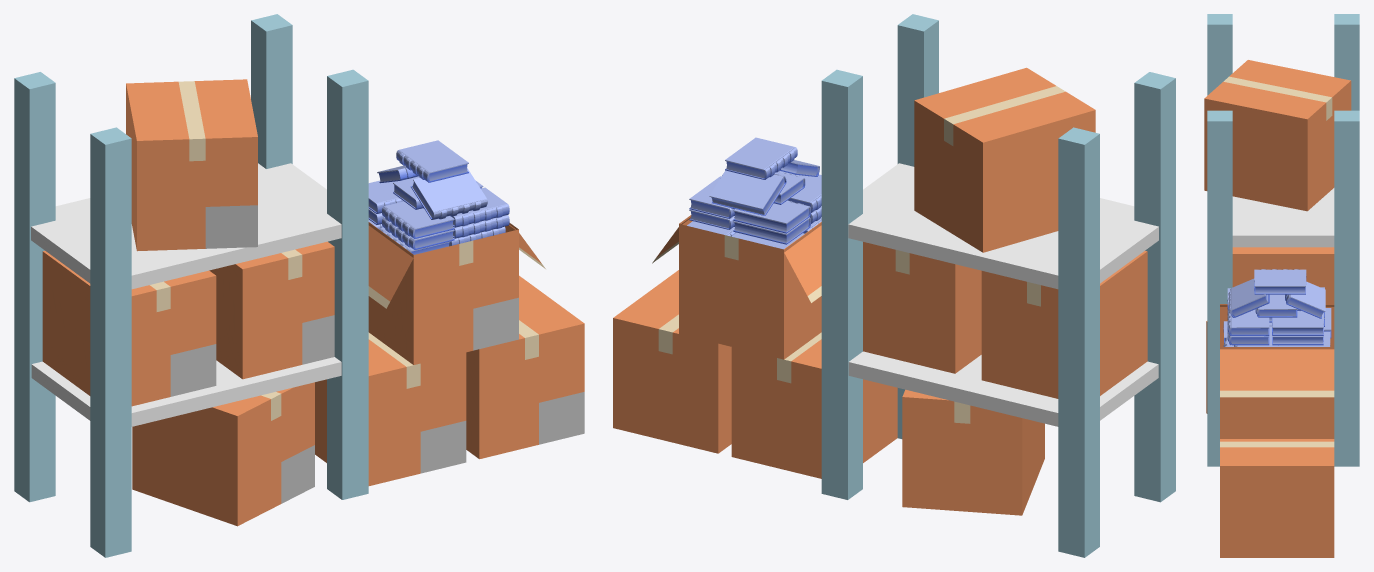
Rendered from BookTedarik.fbx.
The picture shows the model from 3 angles, left to right: view 1: azimuth 30°, elevation 25°; view 2: azimuth 150°, elevation 25°; view 3: azimuth 270°, elevation 25°; orthographic projection. The views are drawn at different scales.
Parts seen in each view (by area): view 1: BookTedarik.008, TedarikBook; view 2: BookTedarik.008, TedarikBook; view 3: BookTedarik.008, TedarikBook.
Part boxes in pixels (left/top/right/bottom): BookTedarik.008: left=14, top=14, right=584, bottom=557; TedarikBook: left=368, top=140, right=509, bottom=254; BookTedarik.008: left=613, top=14, right=1175, bottom=557; TedarikBook: left=687, top=137, right=821, bottom=249; BookTedarik.008: left=1204, top=14, right=1359, bottom=557; TedarikBook: left=1223, top=269, right=1331, bottom=346.
Bounding box in the file's own units: 3.7 × 3 × 1.22.
